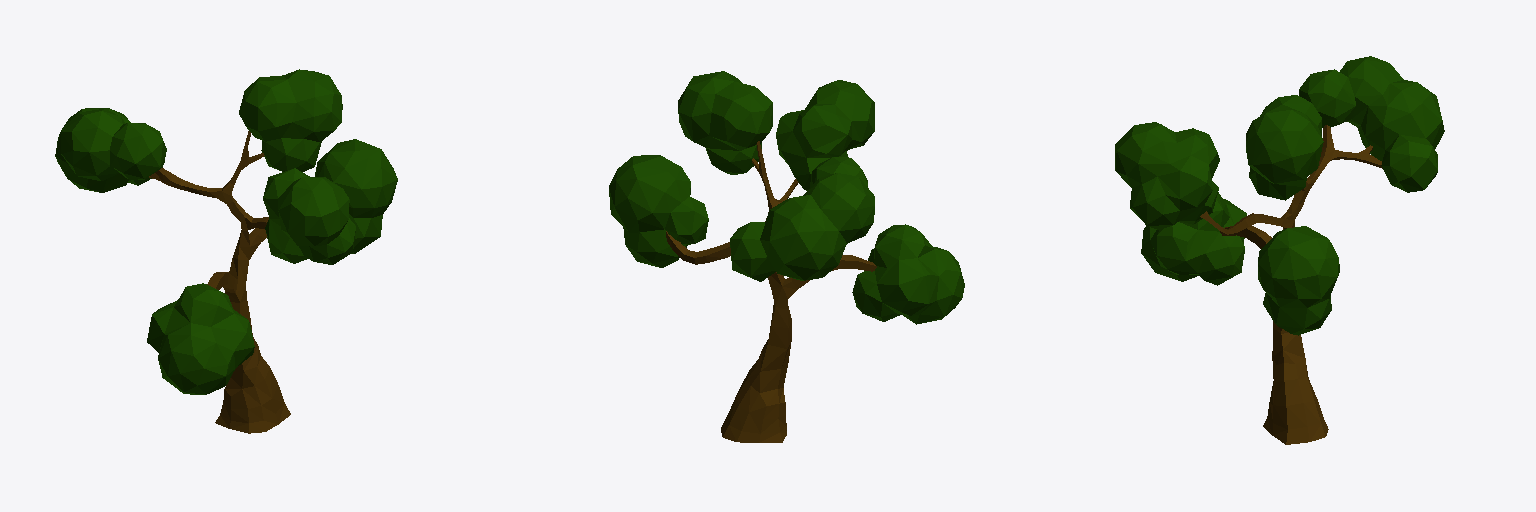
3 views of the same model, side by side, from view 1: azimuth 30°, elevation 25°; view 2: azimuth 150°, elevation 25°; view 3: azimuth 270°, elevation 25° (orthographic).
Visible parts, largest first — view 1: polySurface21; view 2: polySurface21; view 3: polySurface21.
Part boxes in pixels (left/top/right/bottom): polySurface21: left=55, top=69, right=397, bottom=433; polySurface21: left=609, top=71, right=964, bottom=442; polySurface21: left=1115, top=56, right=1444, bottom=444.
Bounding box in the file's own units: 3.63 × 4.08 × 3.58.
1 materials, 1 textured.